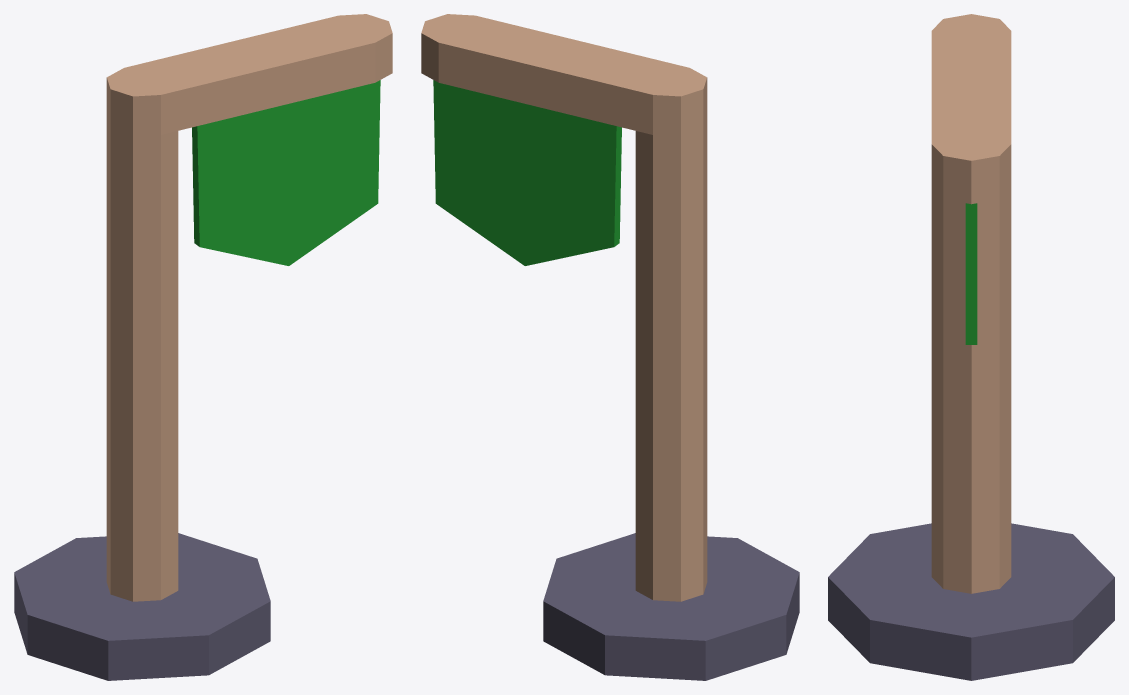
The model's file is Flag2.fbx.
3 views of the same model, side by side, from view 1: azimuth 30°, elevation 25°; view 2: azimuth 150°, elevation 25°; view 3: azimuth 270°, elevation 25° (orthographic). The views are drawn at different scales.
Parts seen in each view (by area): view 1: Cylinder.004; view 2: Cylinder.004; view 3: Cylinder.004.
Part boxes in pixels (box(x1,y1,x2,y2)): Cylinder.004: box(14, 14, 392, 680); Cylinder.004: box(421, 14, 799, 680); Cylinder.004: box(828, 14, 1114, 680).
Size of the model in its own units: 94.32 by 136 by 60.
Materials: 2 (1 with a texture image).
